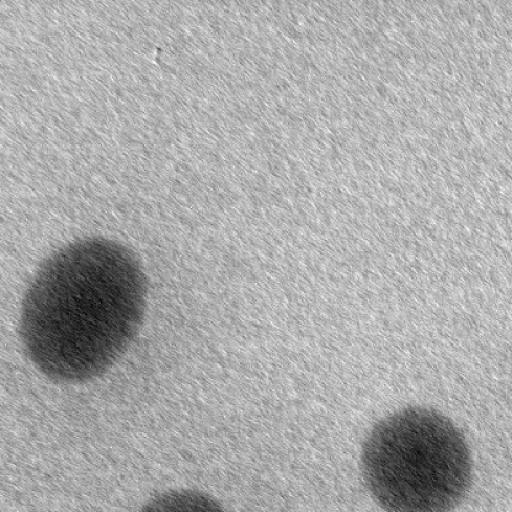Nanoparticles: (16, 234, 151, 380), (360, 404, 470, 508), (136, 489, 226, 511)
